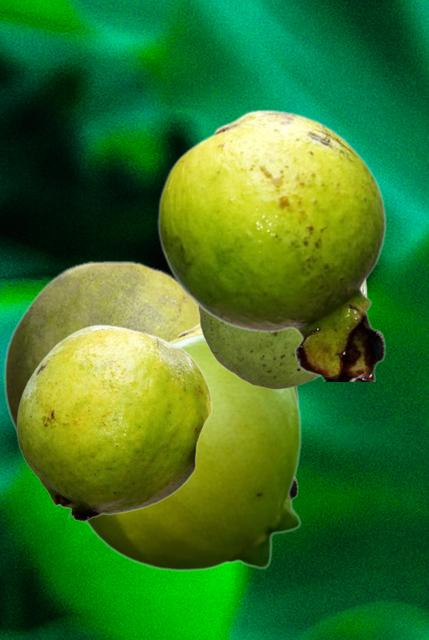guava: (157, 109, 386, 380), (85, 331, 301, 570), (16, 324, 211, 521), (3, 260, 198, 435), (197, 282, 366, 388)
